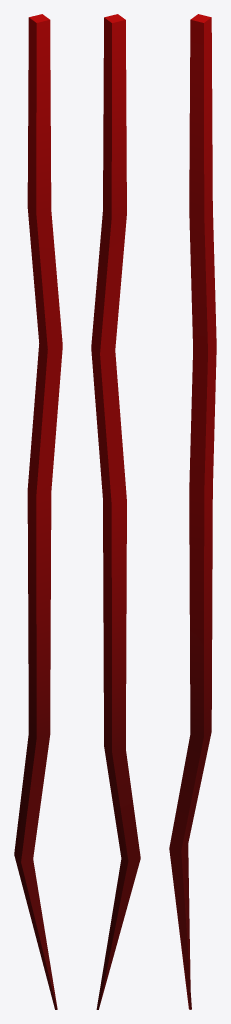
The model's file is SM_Tree_Vines_02.gltf.
The picture shows the model from 3 angles, left to right: view 1: azimuth 30°, elevation 25°; view 2: azimuth 210°, elevation 25°; view 3: azimuth 330°, elevation 25°; orthographic projection. The views are drawn at different scales.
Visible parts, largest first — view 1: SM_Tree_Vines_02; view 2: SM_Tree_Vines_02; view 3: SM_Tree_Vines_02.
Boxes of the visible parts, <box> form: SM_Tree_Vines_02: <box>14,14,62,1009</box>; SM_Tree_Vines_02: <box>91,14,140,1009</box>; SM_Tree_Vines_02: <box>169,14,216,1009</box>.
Size of the model in its own units: 0.131 by 3.05 by 0.1062.
